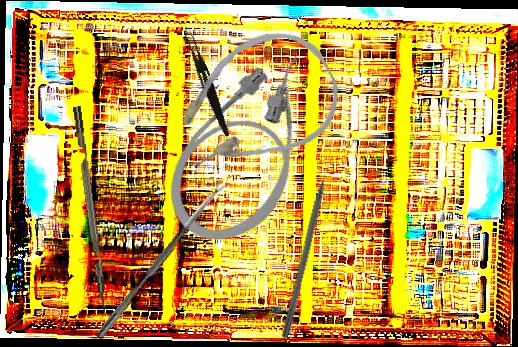Cannula: (147, 35, 354, 263), (155, 11, 356, 196)
Chopper: (72, 104, 119, 323)
Dressing Forceps: (180, 32, 236, 138)
Pusher: (280, 152, 337, 340)
Surgical Spoon: (94, 178, 230, 341)
